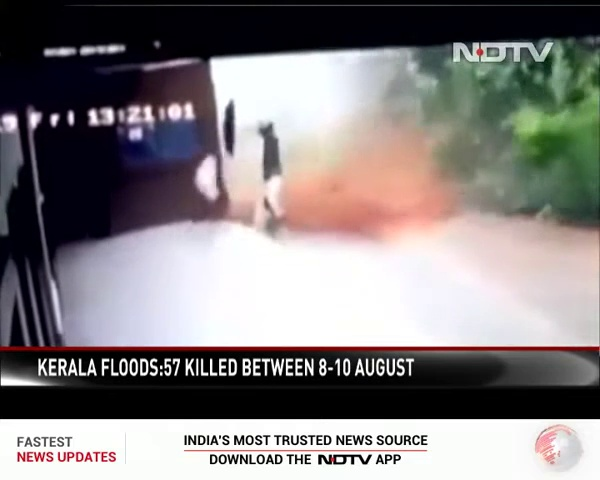person: (252, 121, 286, 232)
